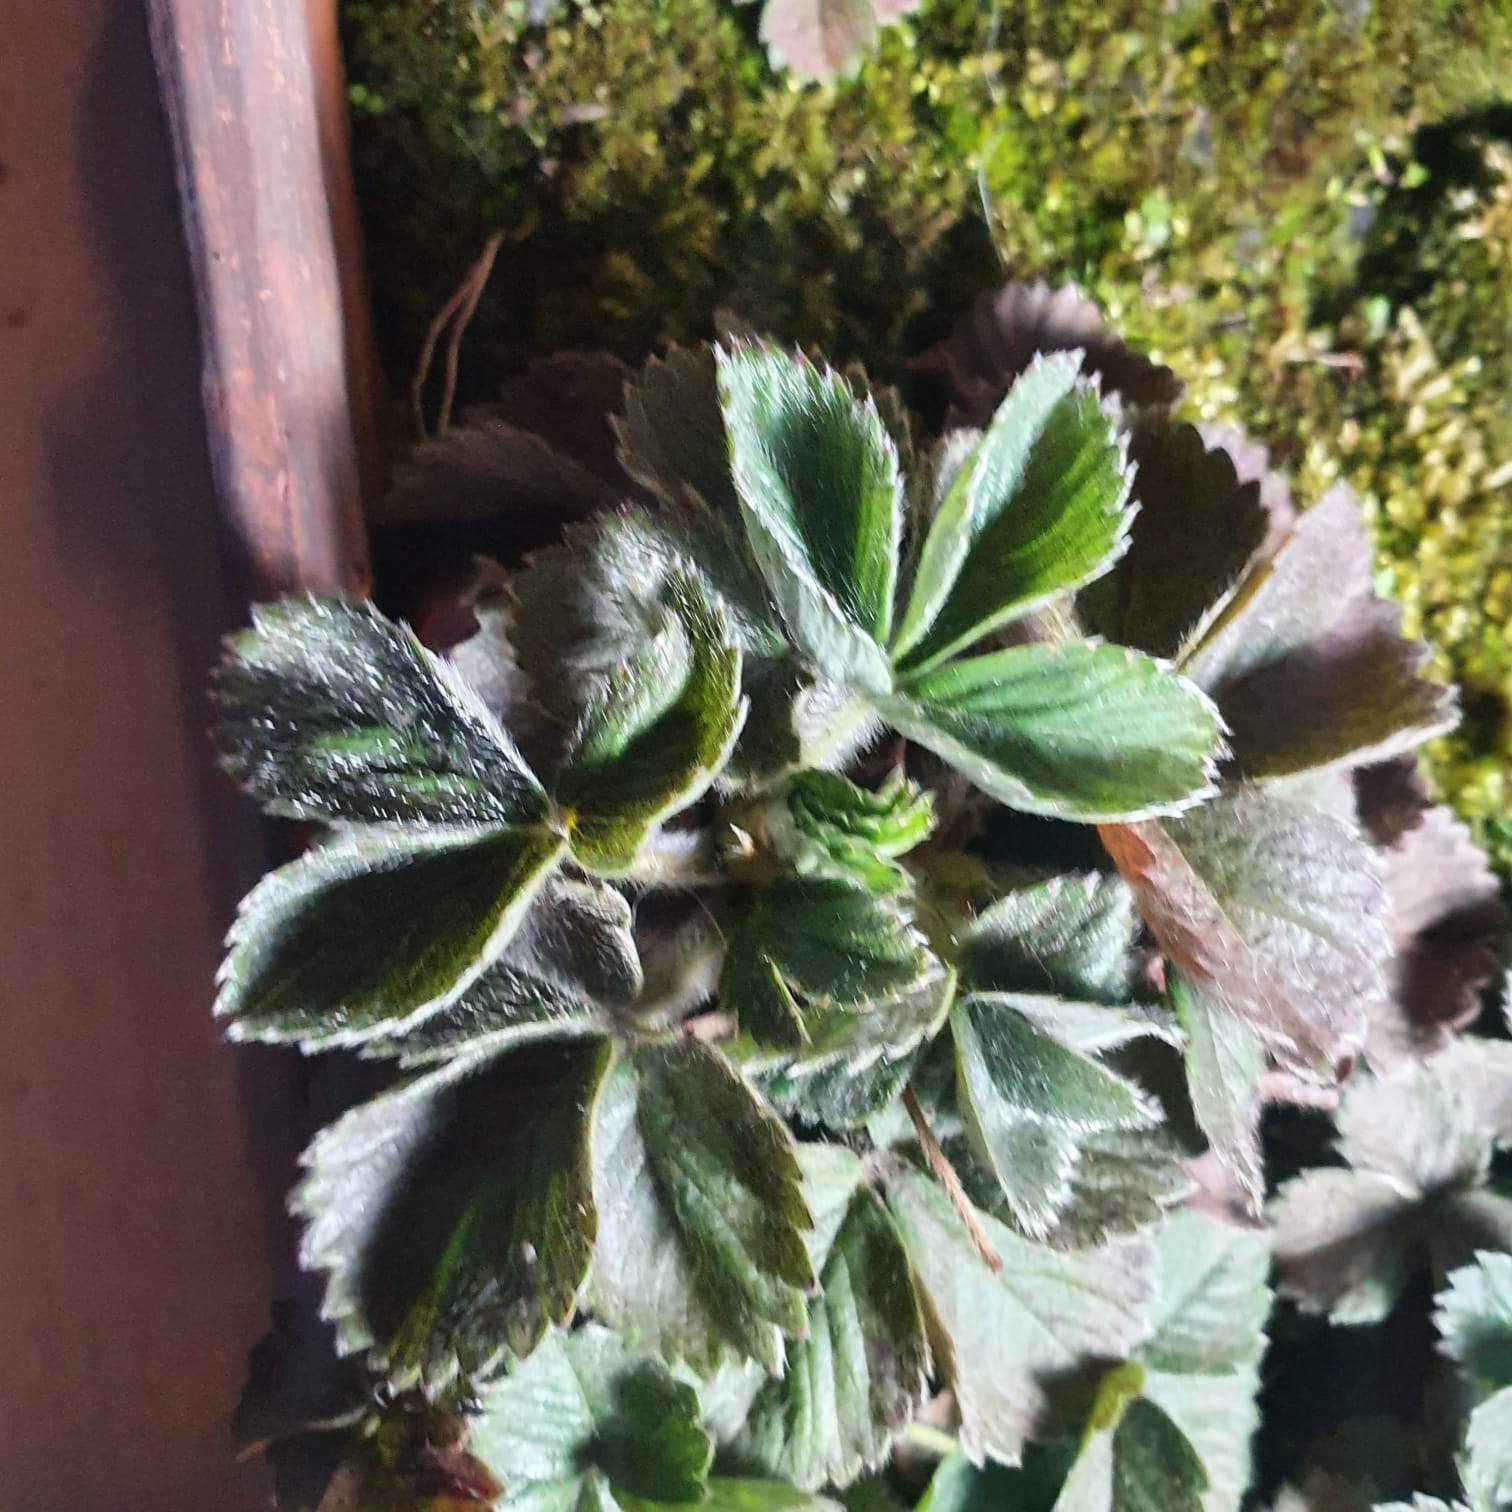tizon_temprano: (1142, 469, 1512, 1252)
